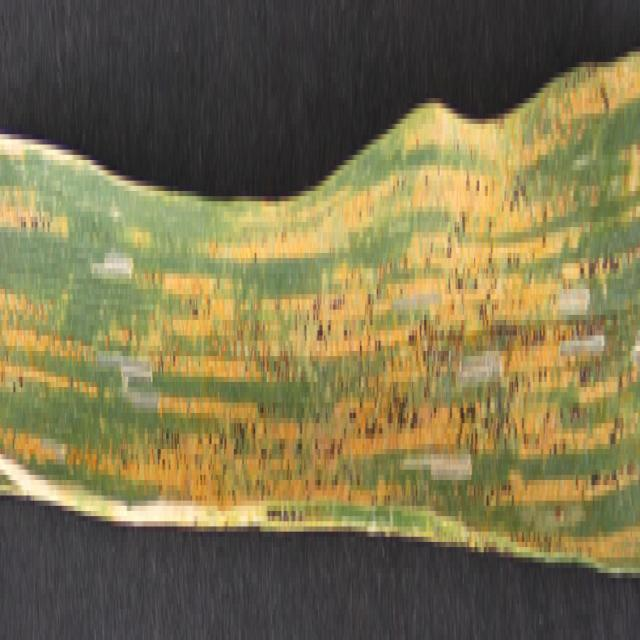leaf rust: (1, 62, 640, 552)
